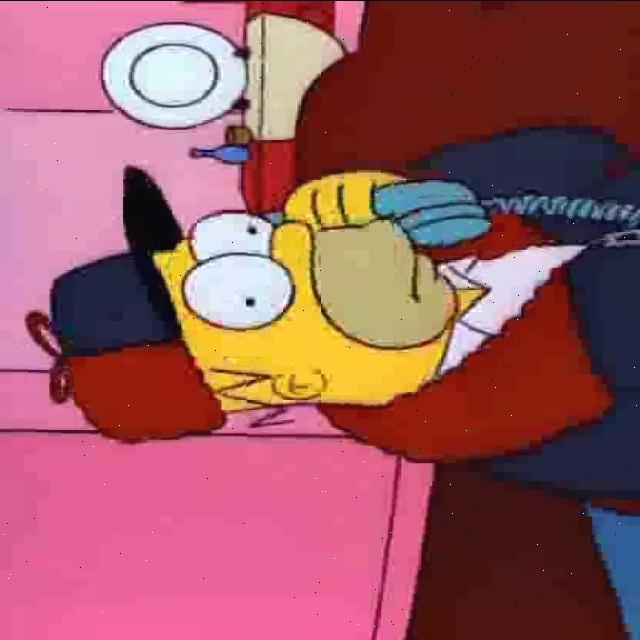Homer Simpson: (137, 212, 466, 412)
